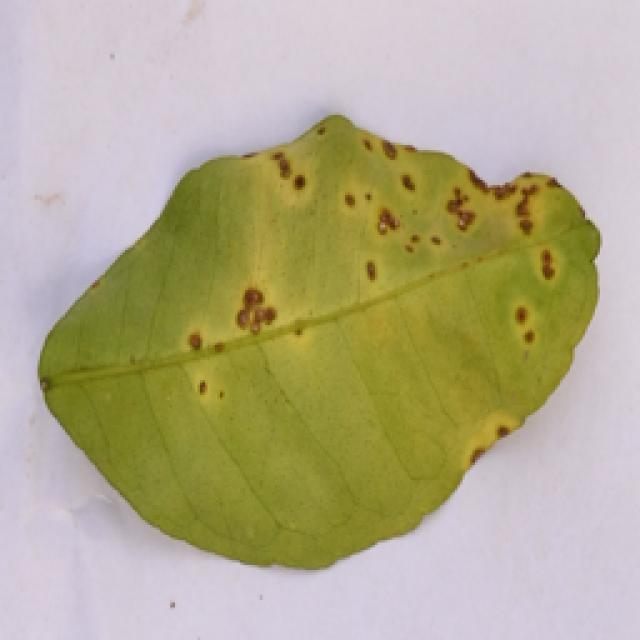canker: (44, 101, 611, 564)
